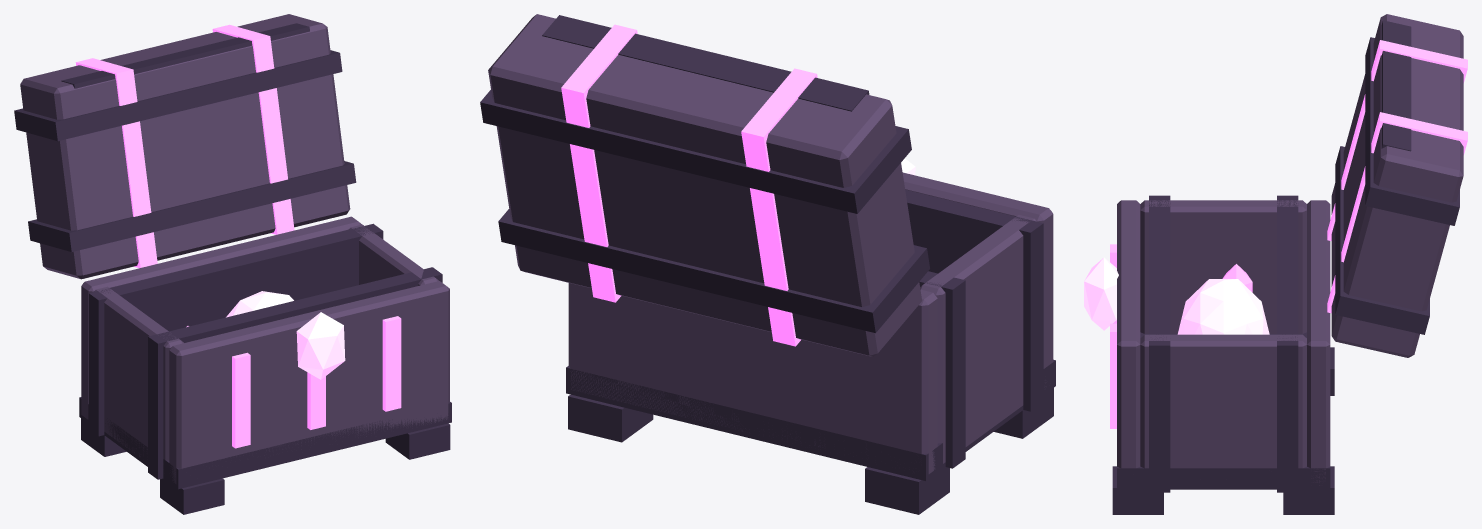
The model's file is loot_chest_wellspring_open.glb.
3 renders of one model, left to right at view 1: azimuth 30°, elevation 25°; view 2: azimuth 150°, elevation 25°; view 3: azimuth 270°, elevation 25°, orthographic. The views are drawn at different scales.
Visible parts, largest first — view 1: Well_Lid.001, Well_Body_Front.001, Well_Band_2.001, Well_Body_Left.001, Well_Lid_Band_1.001, Well_Lid_Band_2.001, Well_Band_1.001, Well_Body_Floor.001, Well_Body_Back.001, Well_Lid_Vein_2.001, Well_Lid_Vein_1.001, Well_Crystal_Lock.001 (+9 smaller); view 2: Well_Lid.001, Well_Body_Back.001, Well_Body_Left.001, Well_Lid_Band_1.001, Well_Lid_Band_2.001, Well_Body_Floor.001, Well_Band_1.001, Well_Lid_Lip.001, Well_Lid_Vein_1.001, Well_Lid_Vein_2.001, Well_Band_2.001, Well_Body_Front.001 (+3 smaller); view 3: Well_Lid.001, Well_Body_Right.001, Well_Body_Left.001, Well_Body_Front.001, Well_Band_1.001, Well_Band_2.001, Well_Body_Back.001, Well_Prize, Well_Body_Floor.001, Well_Lid_Band_1.001, Well_Lid_Band_2.001, Well_Lid_Lip.001 (+6 smaller).
Boxes of the visible parts, bbox=[...] form: Well_Lid.001: bbox=[20, 14, 350, 279]; Well_Body_Front.001: bbox=[169, 281, 449, 483]; Well_Band_2.001: bbox=[89, 223, 383, 436]; Well_Body_Left.001: bbox=[94, 286, 183, 460]; Well_Lid_Band_1.001: bbox=[14, 50, 342, 141]; Well_Lid_Band_2.001: bbox=[28, 161, 356, 251]; Well_Band_1.001: bbox=[148, 267, 442, 479]; Well_Body_Floor.001: bbox=[79, 397, 451, 489]; Well_Body_Back.001: bbox=[81, 216, 361, 419]; Well_Lid_Vein_2.001: bbox=[212, 24, 294, 234]; Well_Lid_Vein_1.001: bbox=[75, 58, 157, 268]; Well_Crystal_Lock.001: bbox=[296, 312, 345, 379]; Well_Lid.001: bbox=[488, 14, 922, 356]; Well_Body_Back.001: bbox=[568, 283, 937, 473]; Well_Body_Left.001: bbox=[920, 215, 1036, 463]; Well_Lid_Band_1.001: bbox=[480, 90, 911, 213]; Well_Lid_Band_2.001: bbox=[498, 209, 929, 333]; Well_Body_Floor.001: bbox=[566, 359, 1055, 480]; Well_Band_1.001: bbox=[905, 189, 1043, 411]; Well_Lid_Lip.001: bbox=[542, 15, 869, 111]; Well_Lid_Vein_1.001: bbox=[741, 68, 817, 346]; Well_Lid_Vein_2.001: bbox=[561, 24, 637, 302]; Well_Band_2.001: bbox=[919, 271, 965, 468]; Well_Body_Front.001: bbox=[902, 172, 1053, 387]; Well_Lid.001: bbox=[1331, 14, 1463, 357]; Well_Body_Right.001: bbox=[1140, 334, 1306, 468]; Well_Body_Left.001: bbox=[1140, 200, 1306, 333]; Well_Body_Front.001: bbox=[1117, 200, 1140, 468]; Well_Band_1.001: bbox=[1149, 195, 1170, 492]; Well_Band_2.001: bbox=[1277, 195, 1298, 492]; Well_Body_Back.001: bbox=[1307, 200, 1330, 485]; Well_Prize: bbox=[1177, 279, 1269, 334]; Well_Body_Floor.001: bbox=[1117, 332, 1330, 489]; Well_Lid_Band_1.001: bbox=[1365, 37, 1459, 225]; Well_Lid_Band_2.001: bbox=[1335, 146, 1429, 334]; Well_Lid_Lip.001: bbox=[1381, 20, 1411, 151].
Size of the model in its own units: 0.832 by 0.9415 by 0.8988.
